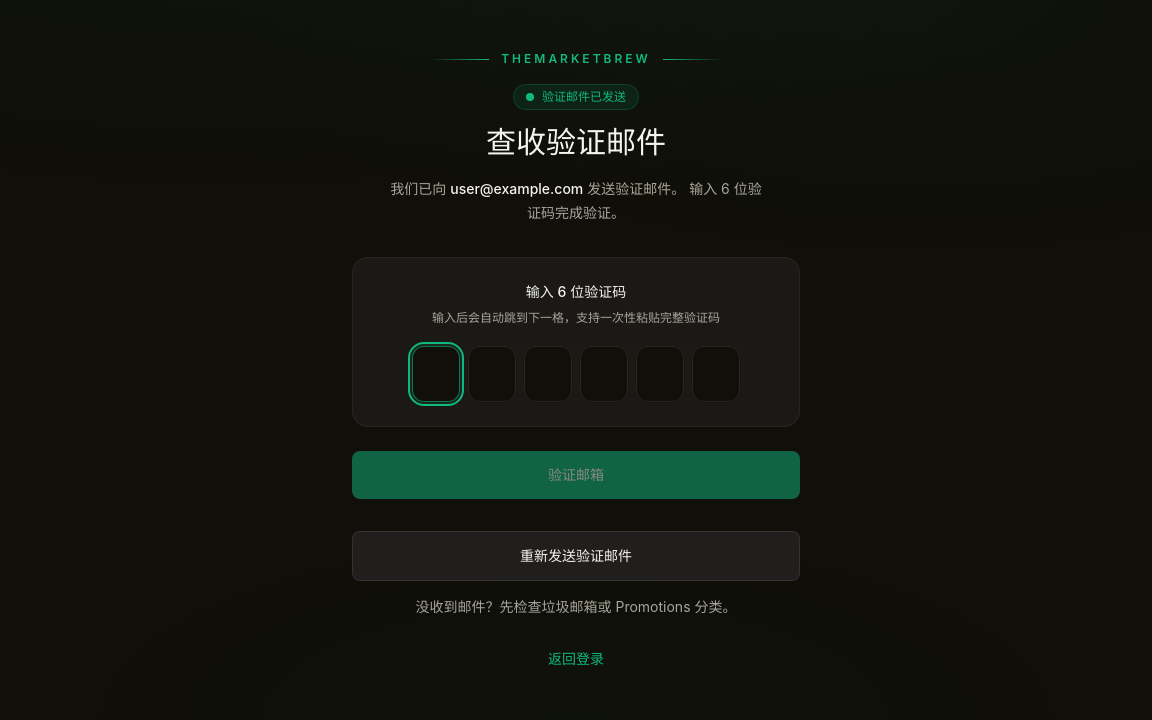
Scenario: /verify-email page › renders code verification flow and resends email
Expected: the heading "查收验证邮件" is shown, [486,123,666,162]
Click the button "重新发送验证邮件" at (576, 556), box [352,531,800,581]
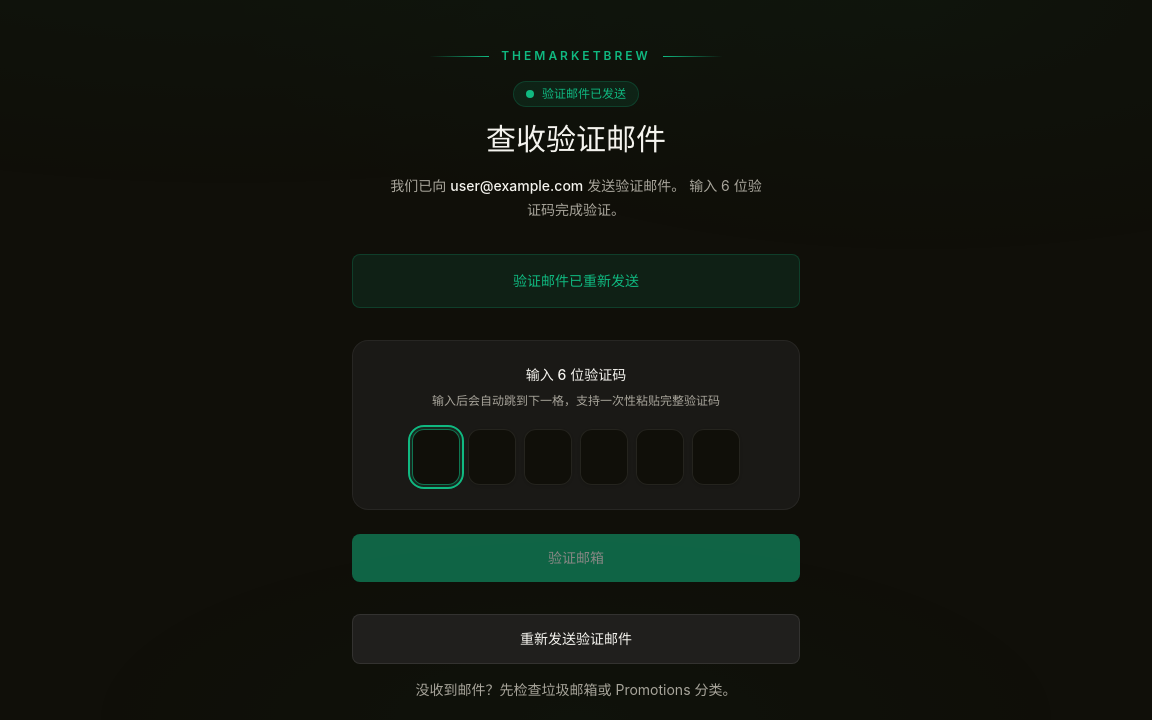
Expected: the text "验证邮件已重新发送" is shown, [513,272,639,288]
